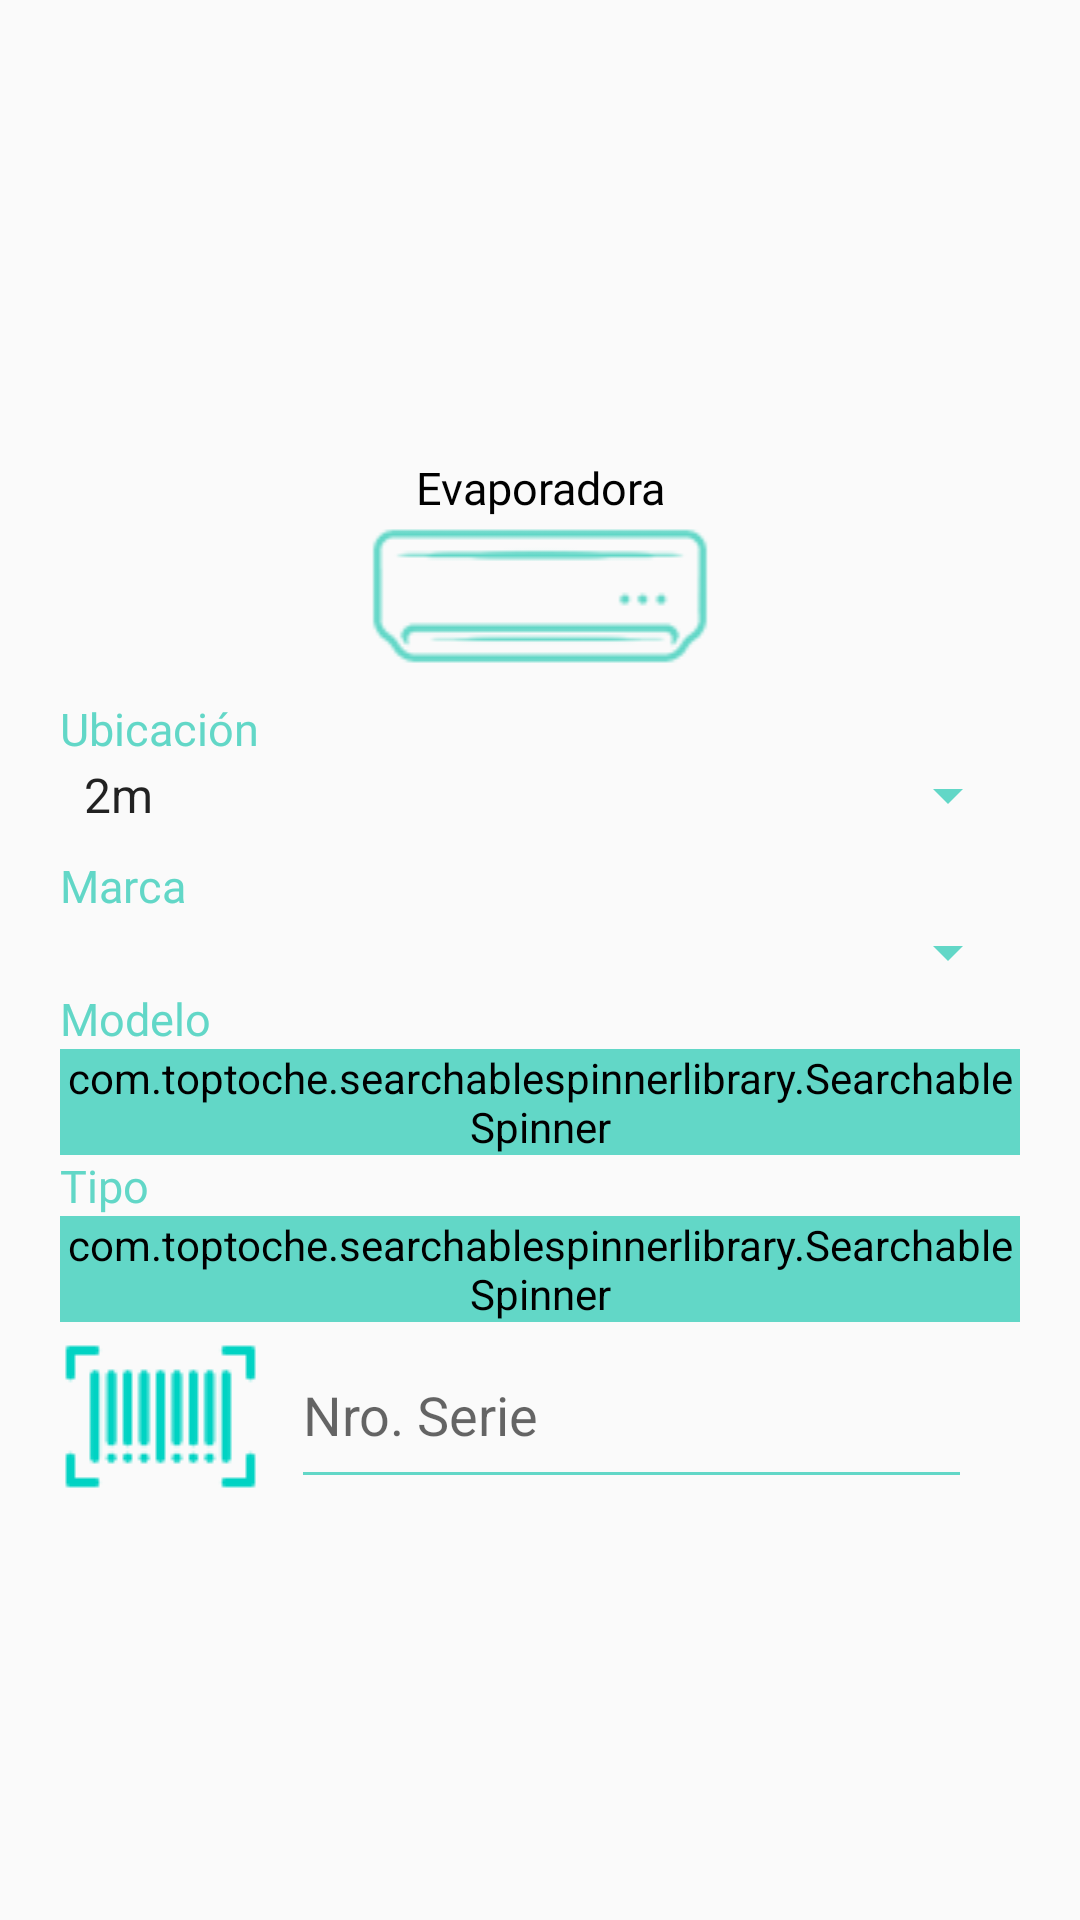

Icon click points for this 1080w x 1920h phone screenshot, format (x,y):
code: (160,1416)
split: (540,596)
